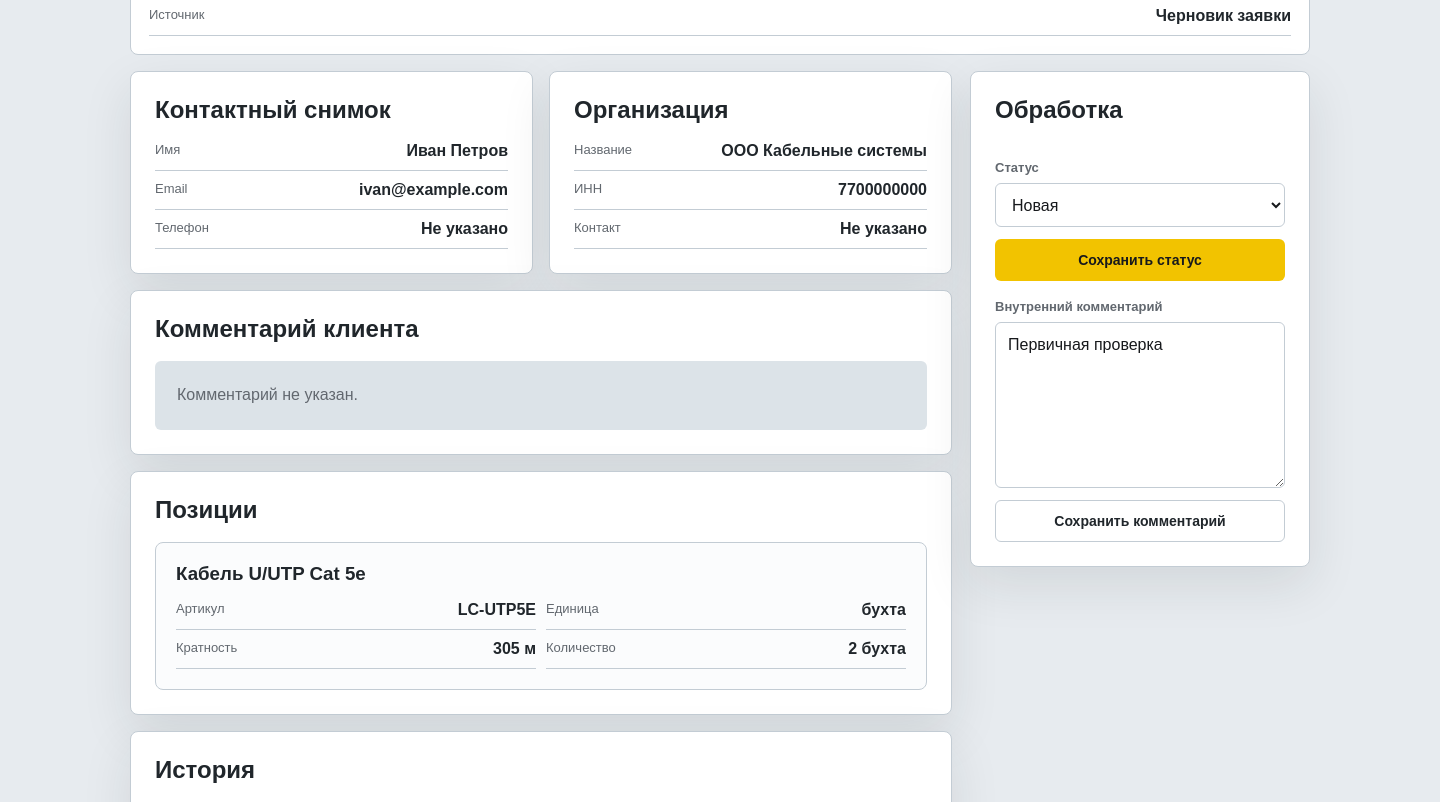
Scenario: AdminRequestDetailPageClient › saves internal comment with csrf token
This screenshot has width=1440, height=802.
(page scrolled)
Replace the text in the text box labelled "Внутренний комментарий" with "Связаться с клиентом". click: (1140,405)
box: x1=995 y1=322 x2=1285 y2=488
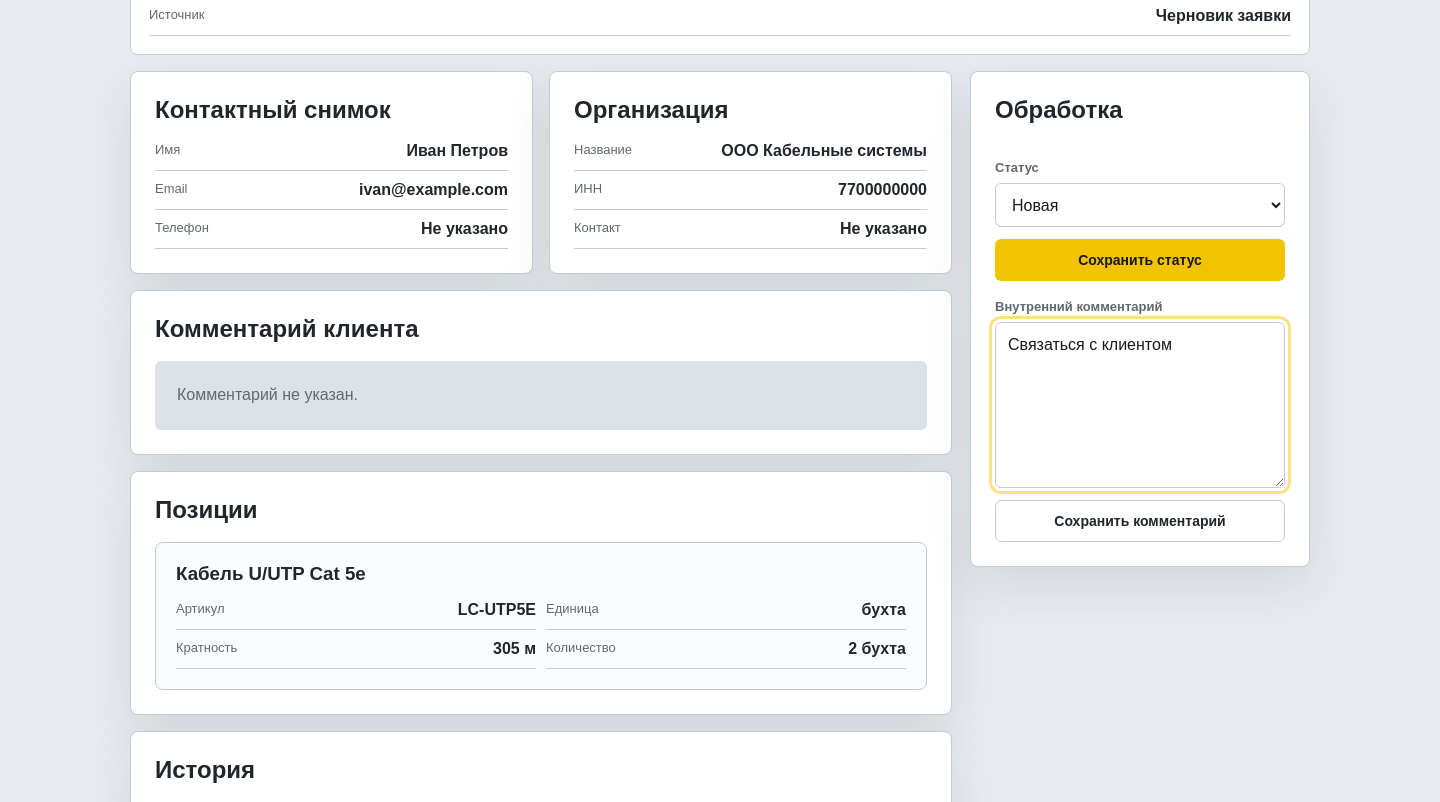
Click the button "Сохранить комментарий". click: (1140,521)
box: x1=995 y1=500 x2=1285 y2=542
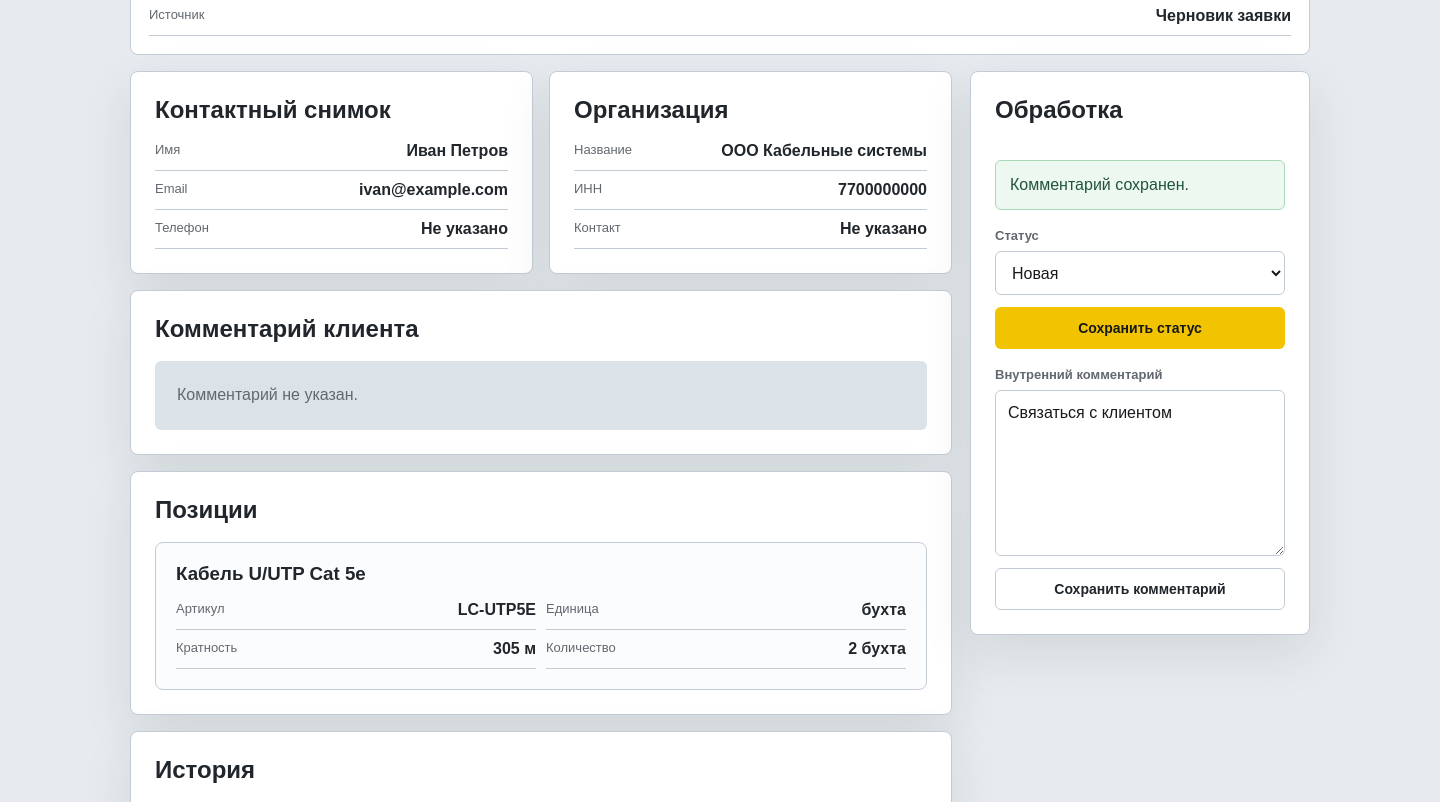
Check: the text box labelled "Внутренний комментарий" holds "Связаться с клиентом", box x1=995 y1=390 x2=1285 y2=556
Check: the text "Комментарий сохранен." is shown, box x1=995 y1=160 x2=1285 y2=210
